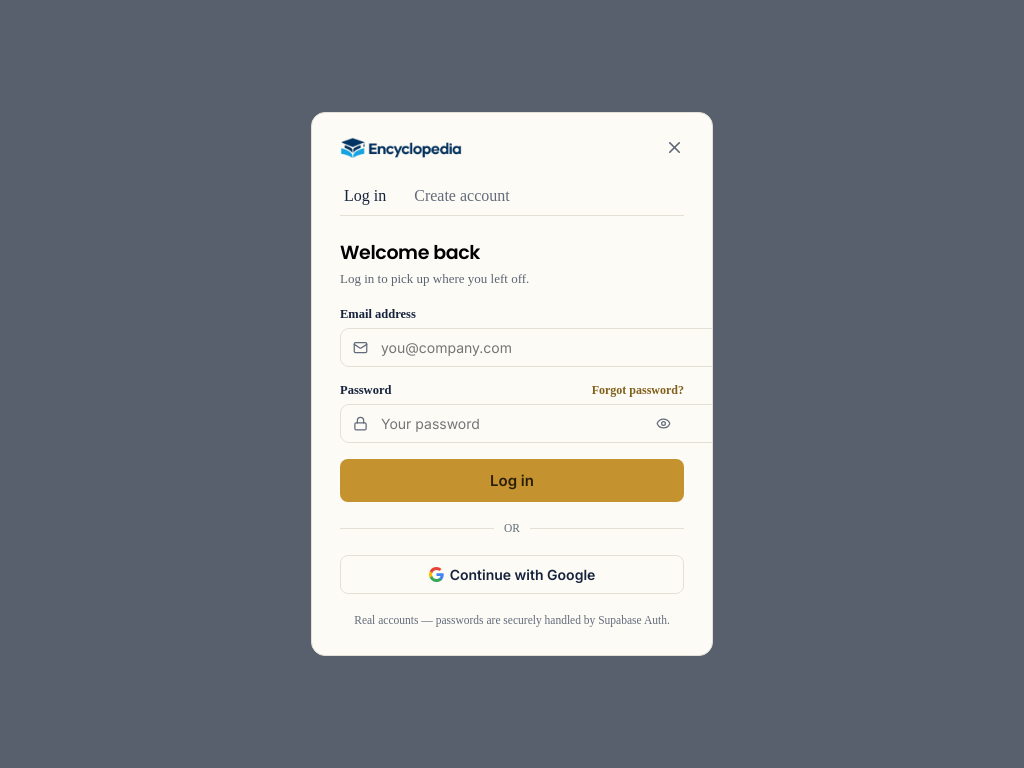
Test: AuthModal › opens on the login tab by default and shows validation errors on empty submit
Click the button "Log in": x=512, y=480 340,459 -> 684,502
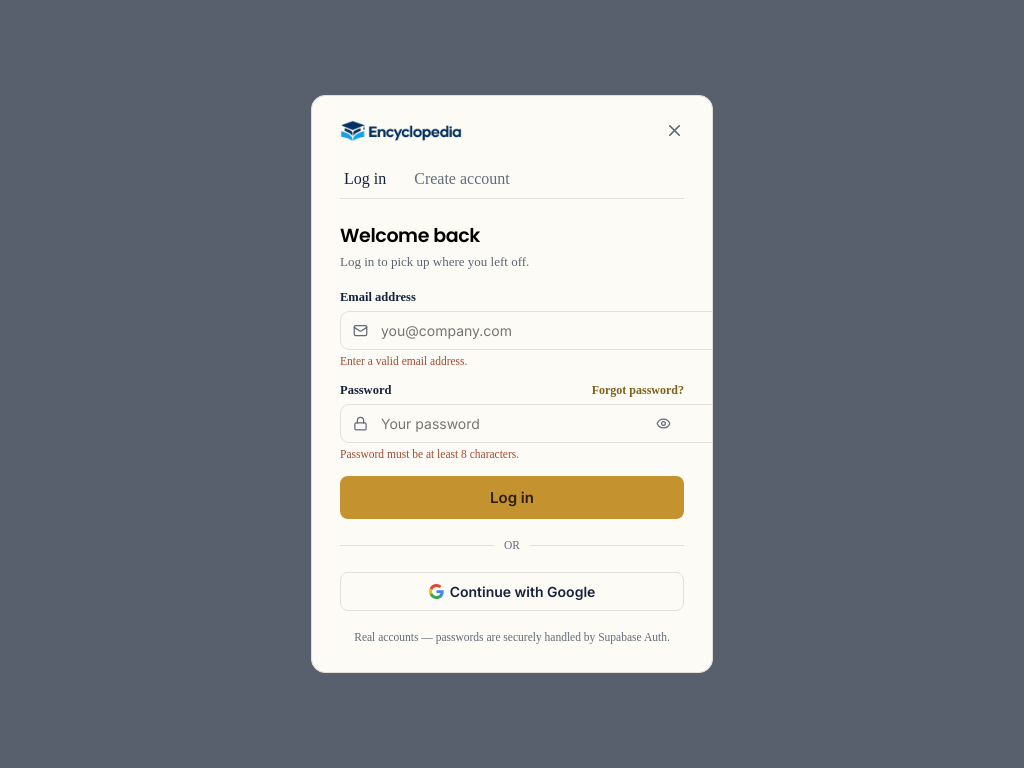
Now the text "Enter a valid email address." is shown, box 340,355 -> 467,367
Now the text "Password must be at least 8 characters." is shown, box 340,448 -> 519,460
